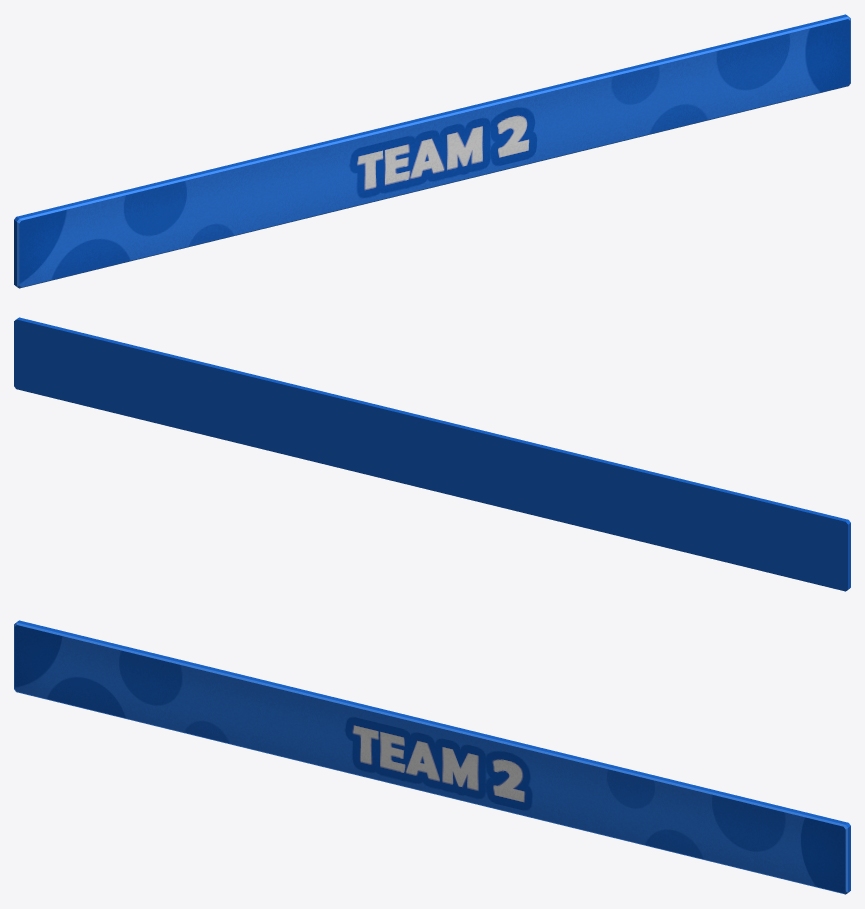
The model's file is billboards_2_C.fbx.
3 renders of one model, top to bottom at view 1: azimuth 30°, elevation 25°; view 2: azimuth 150°, elevation 25°; view 3: azimuth 330°, elevation 25°, orthographic.
Parts seen in each view (by area): view 1: billboards_2_C; view 2: billboards_2_C; view 3: billboards_2_C.
Part boxes in pixels (x1,y1,x2,y2): billboards_2_C: (14,14,850,288); billboards_2_C: (14,317,850,591); billboards_2_C: (14,620,850,894).
Bounding box in the file's own units: 780 × 62.33 × 6.
